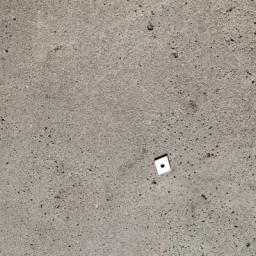FOD: (149, 150, 177, 178)
